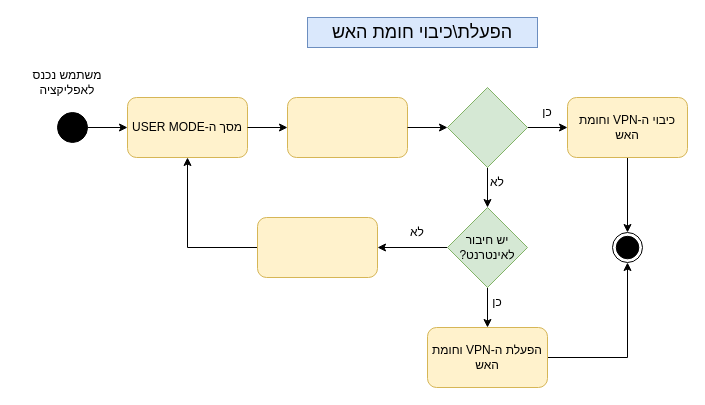
The diagram is 705 pixels wide and 405 high, and some of its shapes have lost their labels. The shapes that lost their labels are listed below. From the top down, each one's centre as x and y in pixels, then its label:
point (347, 127): לחיצה על כפתור הפעלת\כיבוי חומת האש
point (487, 127): חומת האש פעיל?
point (317, 247): קבלת הודעת שגיאה
